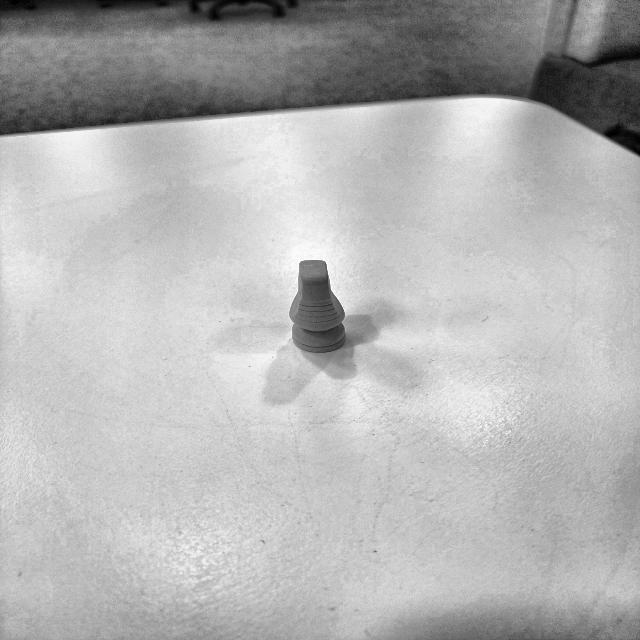white-knight: (288, 259, 347, 354)
